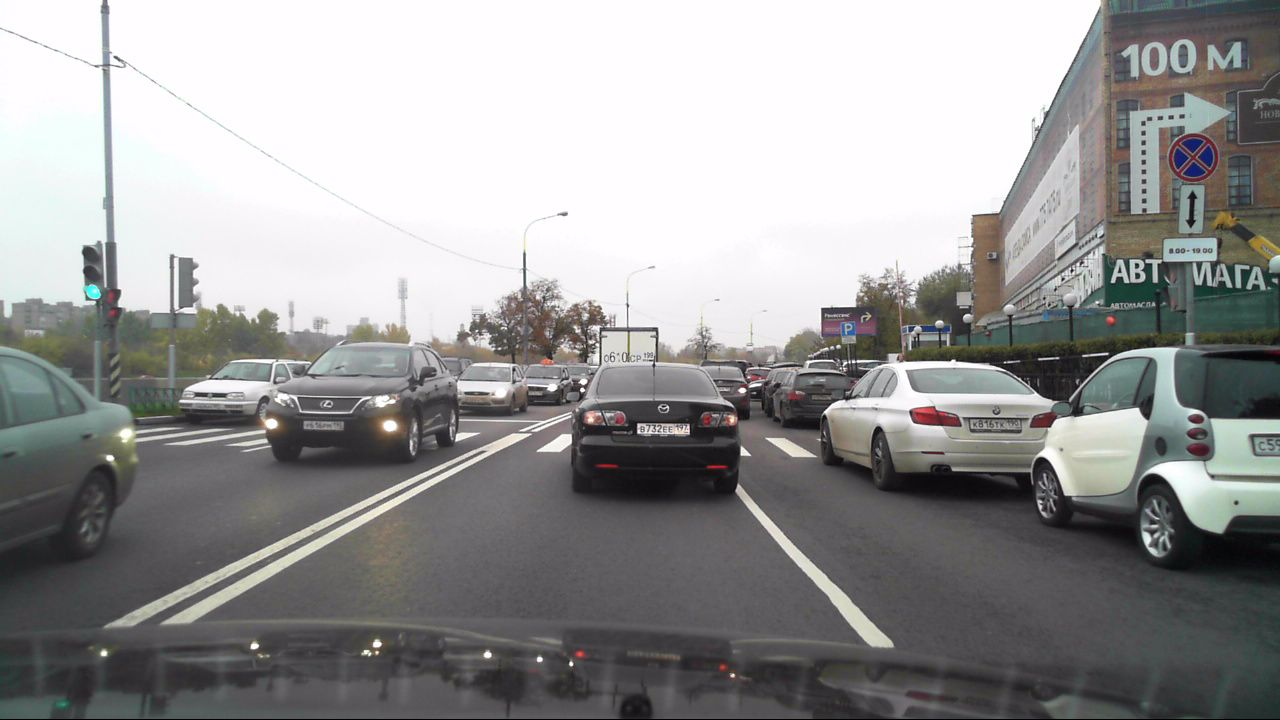No Parking: (1169, 131, 1218, 182)
